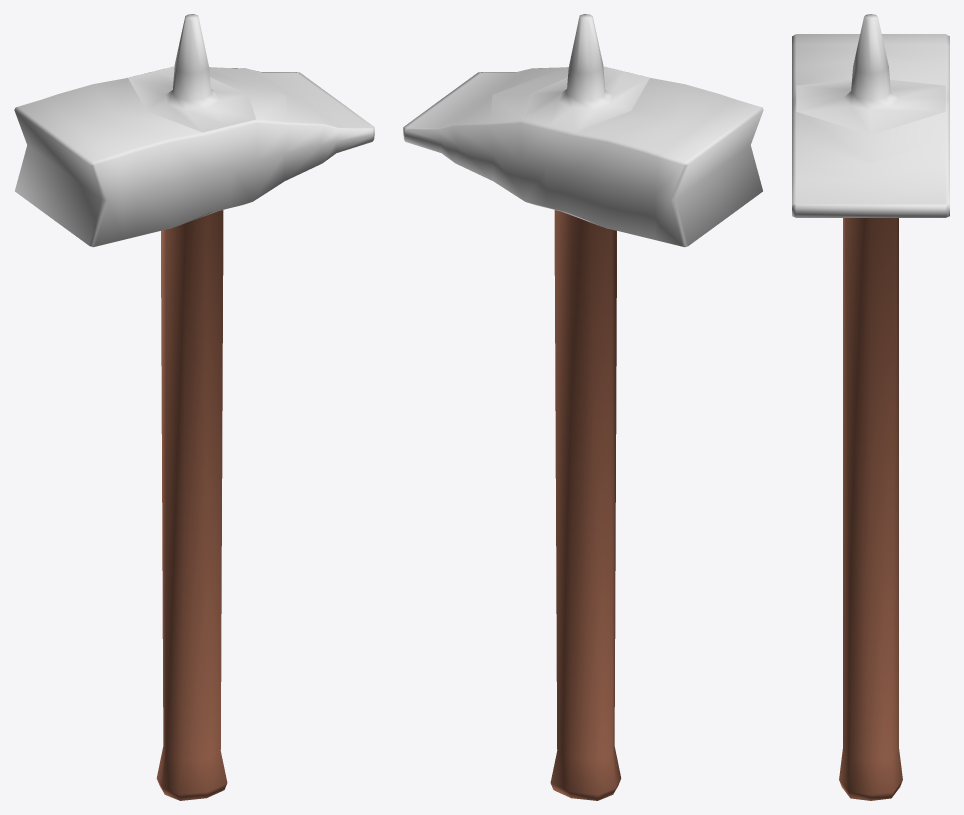
File: Hammer Light.fbx
3 renders of one model, left to right at view 1: azimuth 30°, elevation 25°; view 2: azimuth 150°, elevation 25°; view 3: azimuth 270°, elevation 25°, orthographic.
Visible parts, largest first — view 1: Warhammer.005; view 2: Warhammer.005; view 3: Warhammer.005.
Part boxes in pixels (bbox=[...]): Warhammer.005: bbox=[14, 14, 374, 800]; Warhammer.005: bbox=[403, 14, 763, 800]; Warhammer.005: bbox=[792, 14, 949, 800].
Size of the model in its own units: 34.75 by 89.54 by 16.61.
